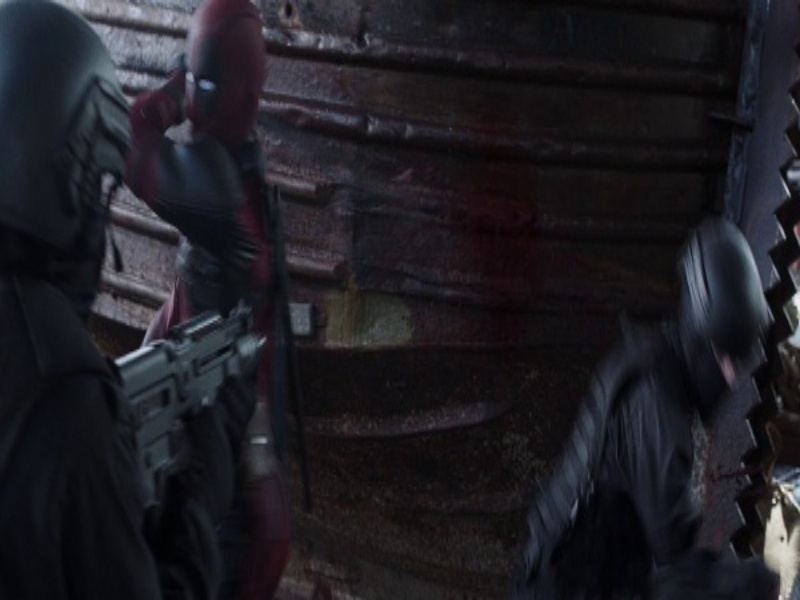person: (1, 3, 223, 598), (121, 1, 287, 596), (515, 217, 763, 596)
weapon: (123, 294, 269, 504)
